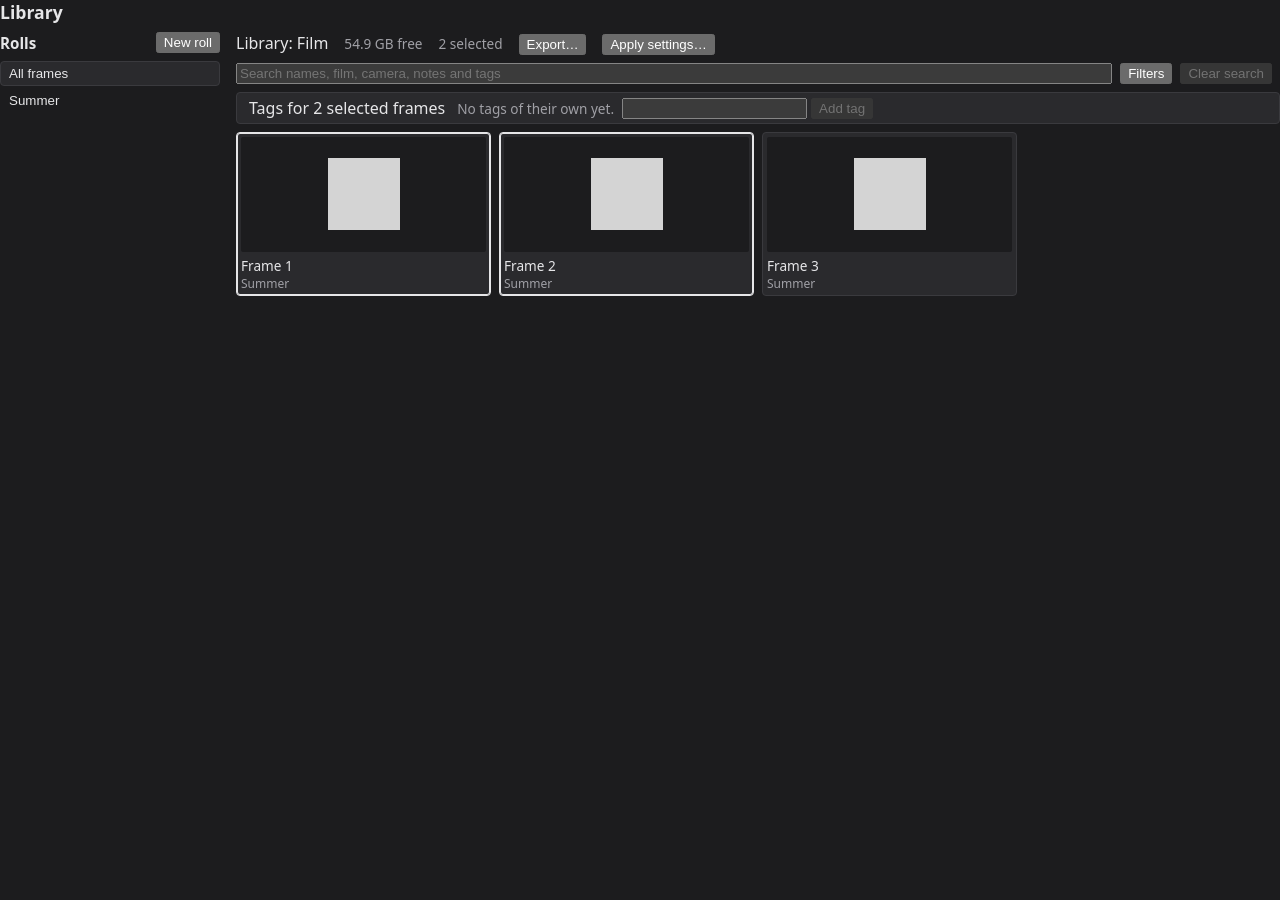
ExportDialog › opening it › shows the quality for JPEG, and says what each colour space is for
Step 1. Click the button "Export…" → (553, 44), box [519,34,586,55]
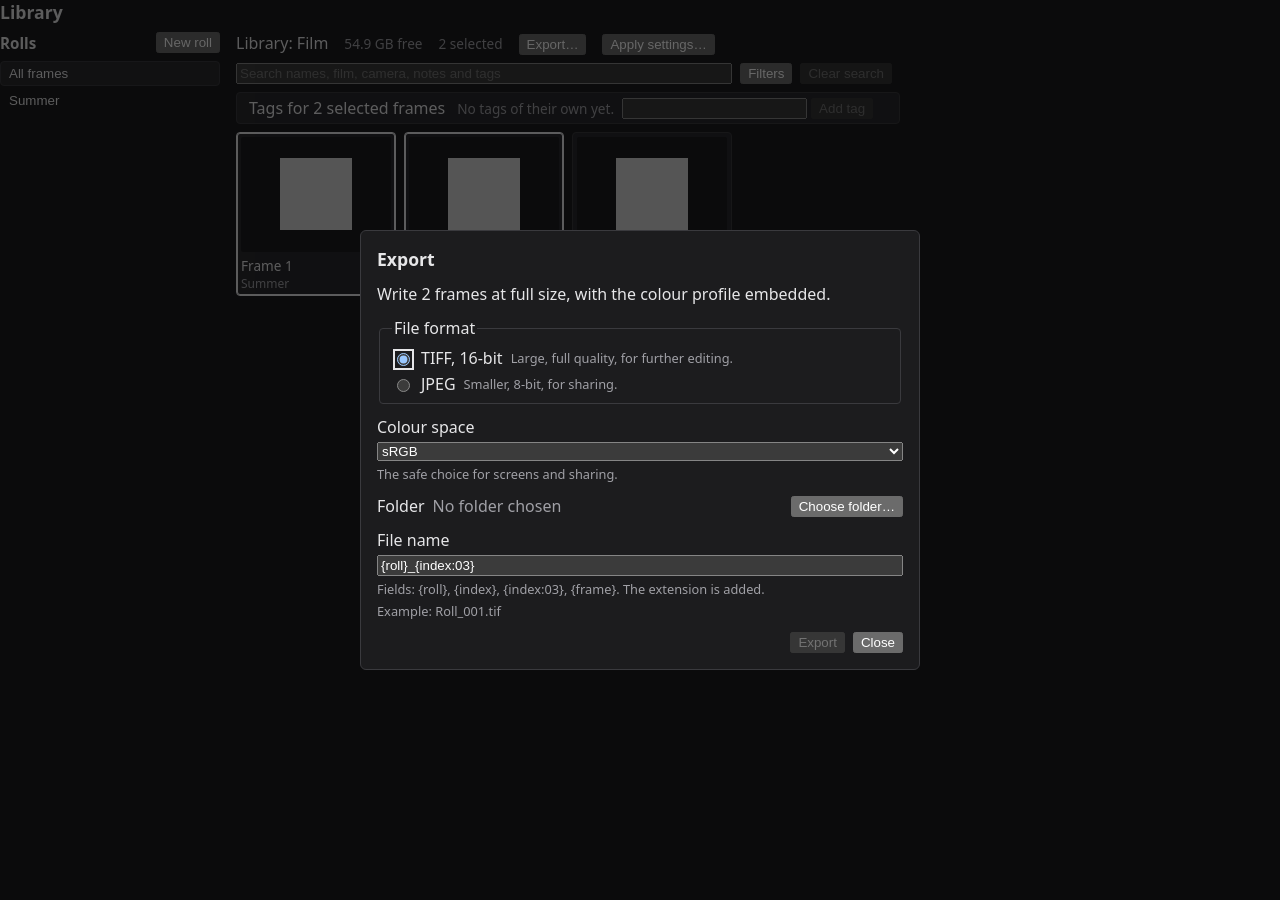
Expected: the dialog "Export" is shown, [360,230,920,670]
Step 2. Click the radio button labelled "JPEG Smaller, 8-bit, for sharing." → (404, 386), box [397,379,410,392]
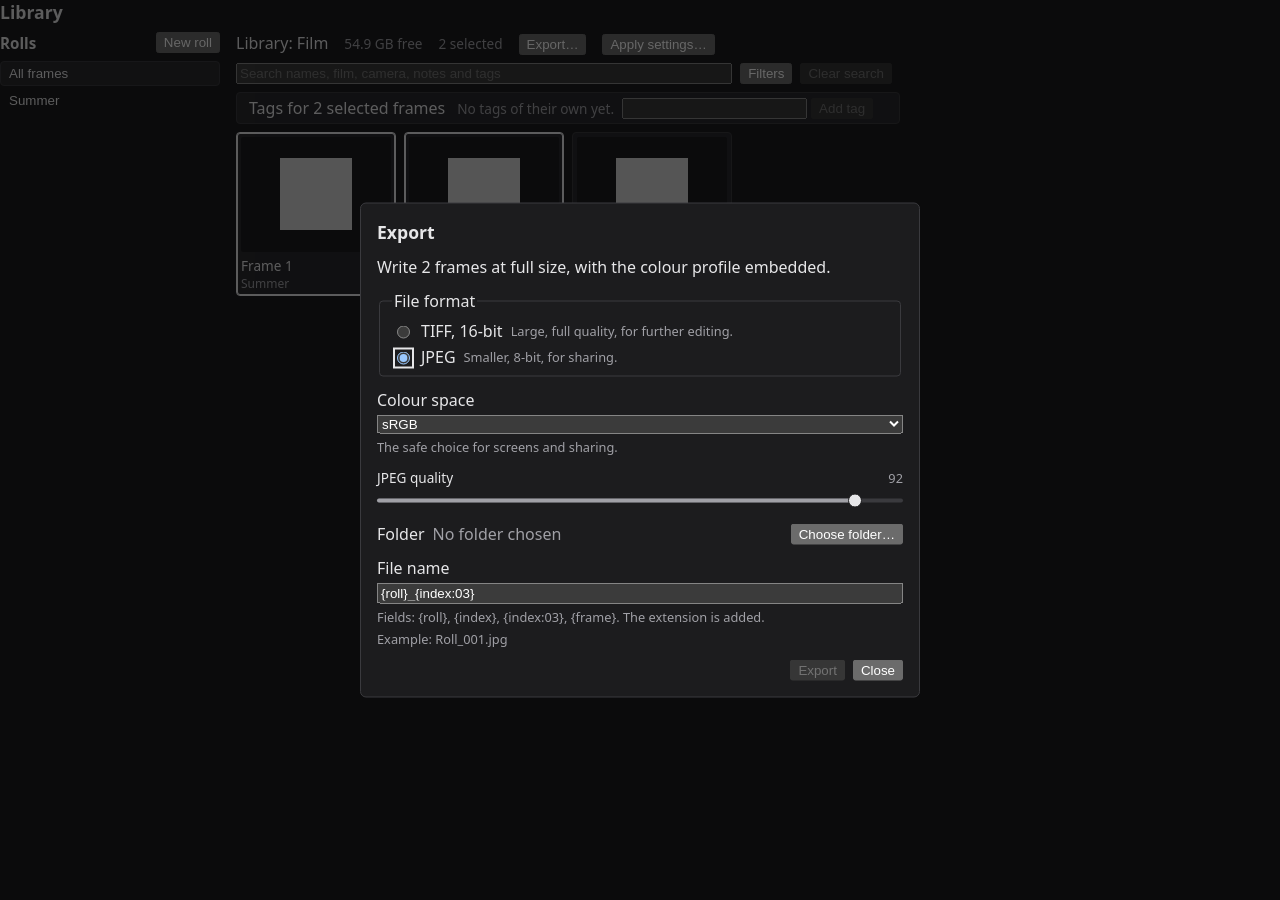
Expected: the text "The safe choice for screens and sharing." is shown, [377,438,618,456]
Expected: the text "Example: Roll_001.jpg" is shown, [377,630,508,648]
Step 3. Select "ProPhoto RGB" in the dropdown labelled "Colour space The safe choice for screens and sharing." → (640, 424), box [377,414,903,434]
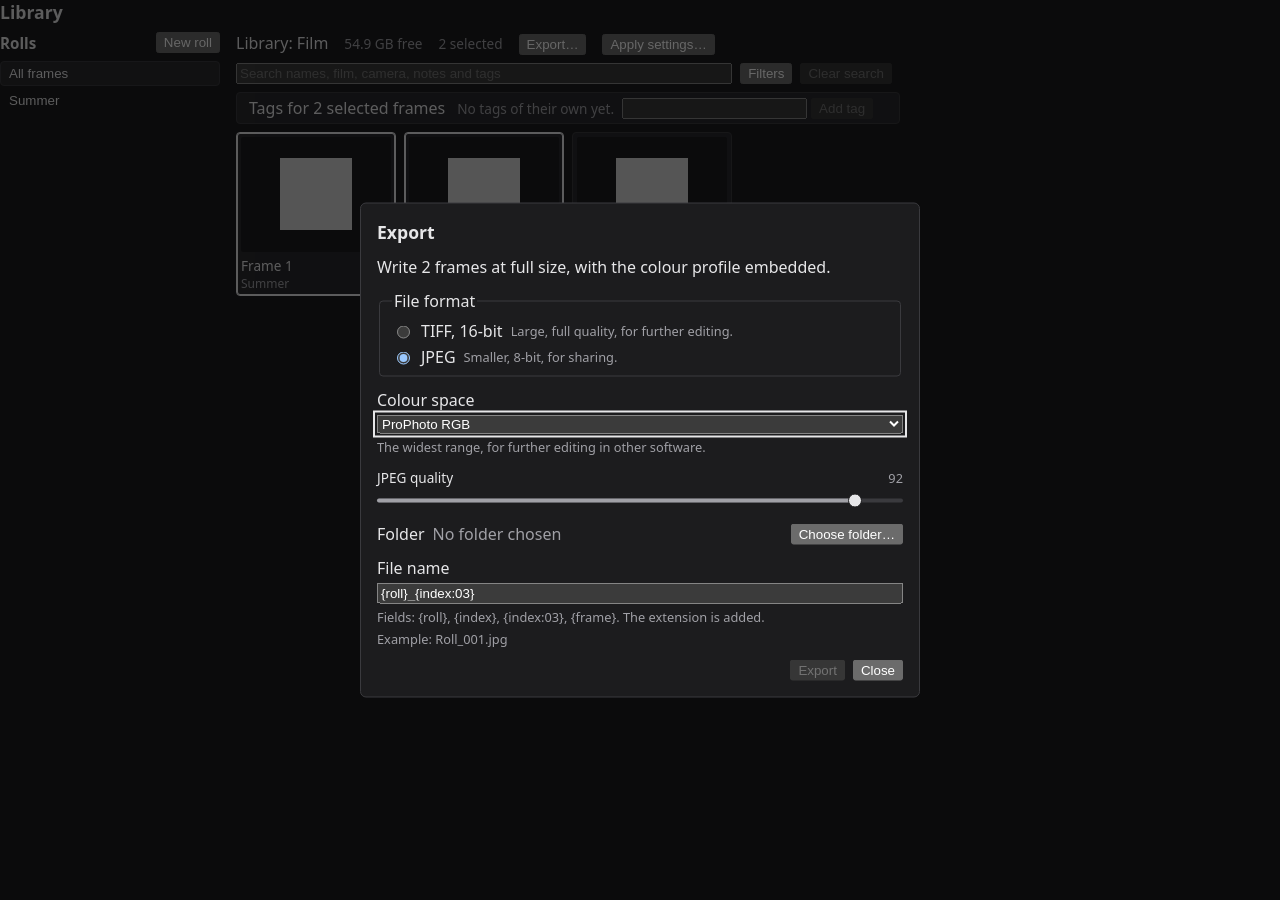
Expected: the text "The widest range, for further editing in other software." is shown, [377,438,706,456]
